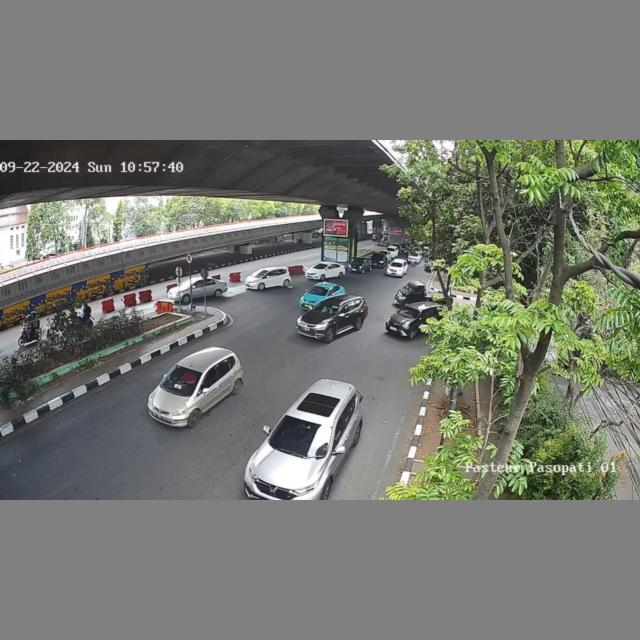windshield: (268, 417, 334, 458), (161, 366, 204, 393), (314, 301, 340, 316), (399, 306, 420, 318), (309, 286, 328, 294)
